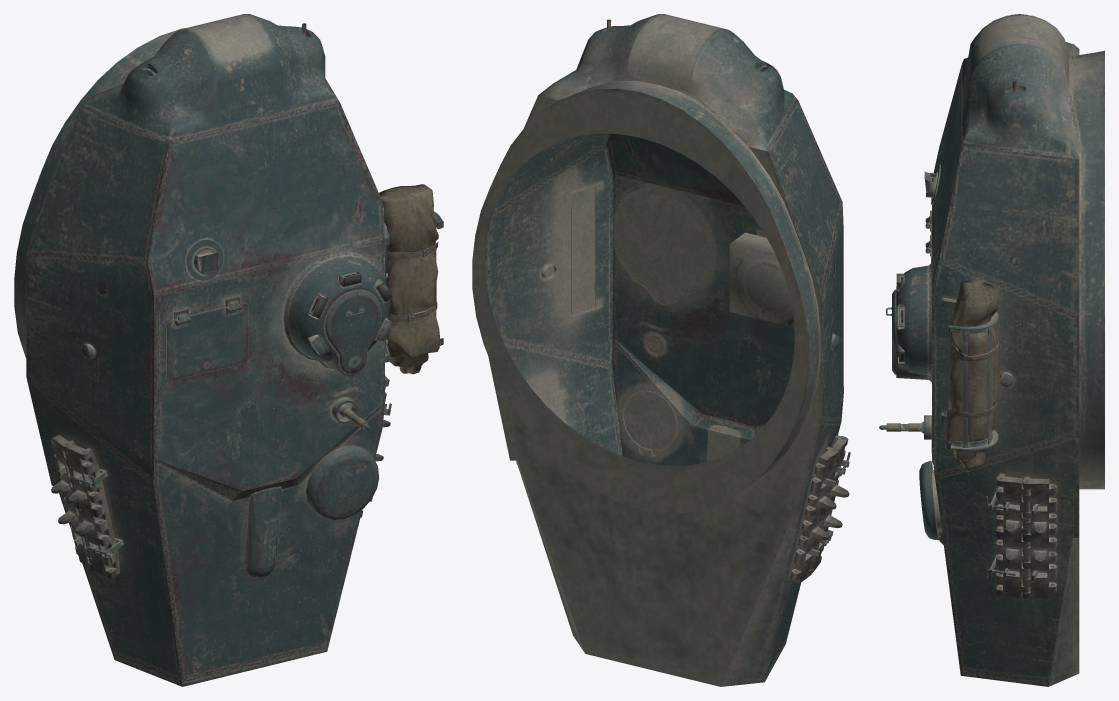
File: Turret_01.glb
3 renders of one model, left to right at view 1: azimuth 30°, elevation 25°; view 2: azimuth 150°, elevation 25°; view 3: azimuth 270°, elevation 25°, orthographic.
Visible parts, largest first — view 1: set_0_group_0; view 2: set_0_group_0; view 3: set_0_group_0.
Boxes of the visible parts, left/top/right/bottom form: set_0_group_0: left=14, top=14, right=443, bottom=686; set_0_group_0: left=472, top=14, right=850, bottom=686; set_0_group_0: left=879, top=14, right=1104, bottom=686.
Size of the model in its own units: 2.47 by 4.14 by 1.39.
Materials: 1 (1 with a texture image).
